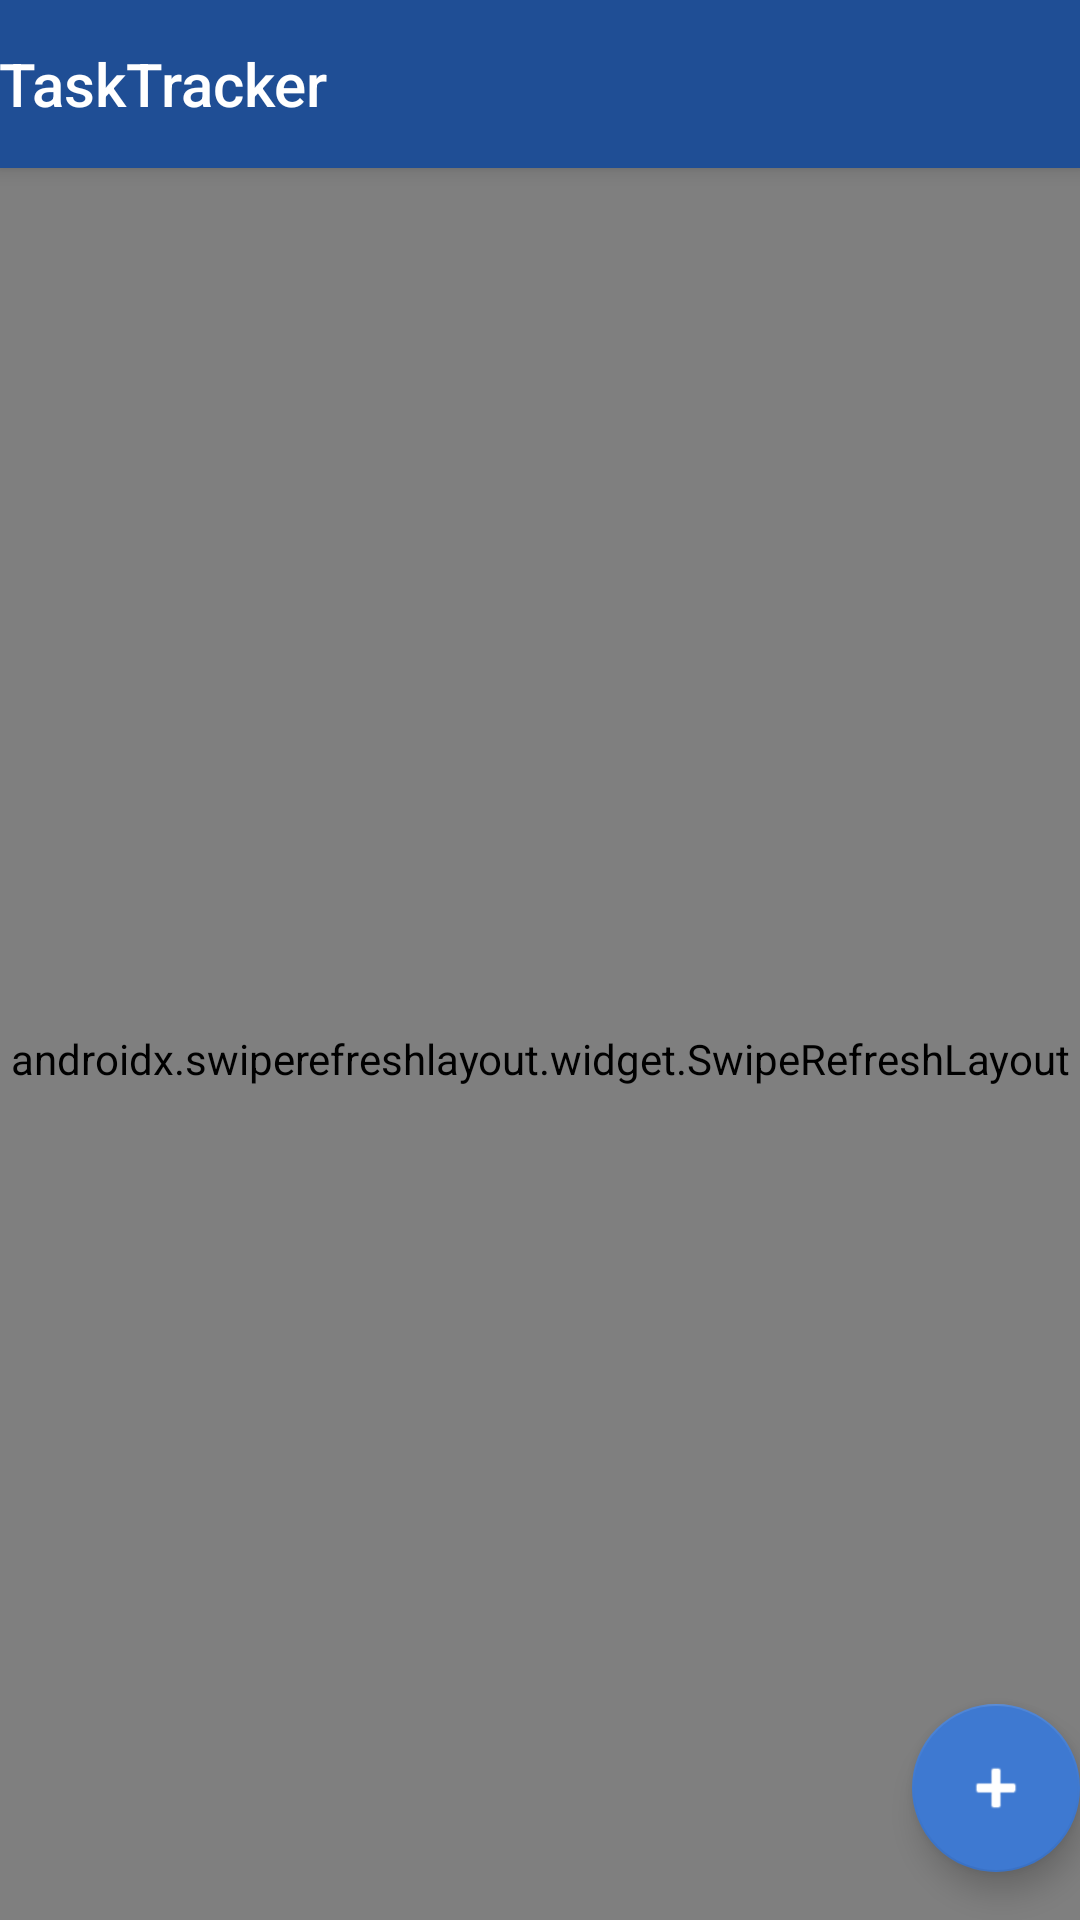

Screen size 1080px x 1920px. Icon name, then its center in pixels as (x,y):
add: (996,1788)
